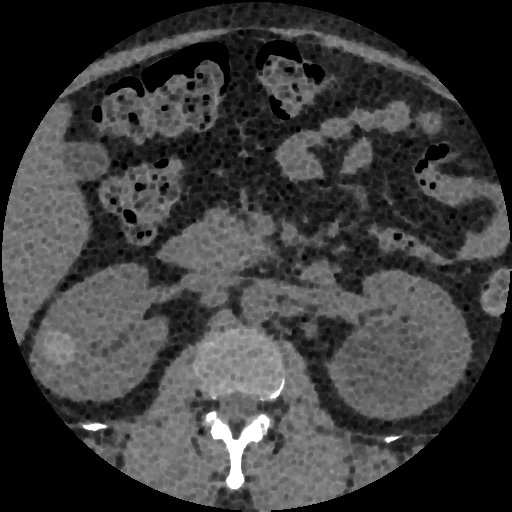Lesion: (36, 327, 77, 366)
